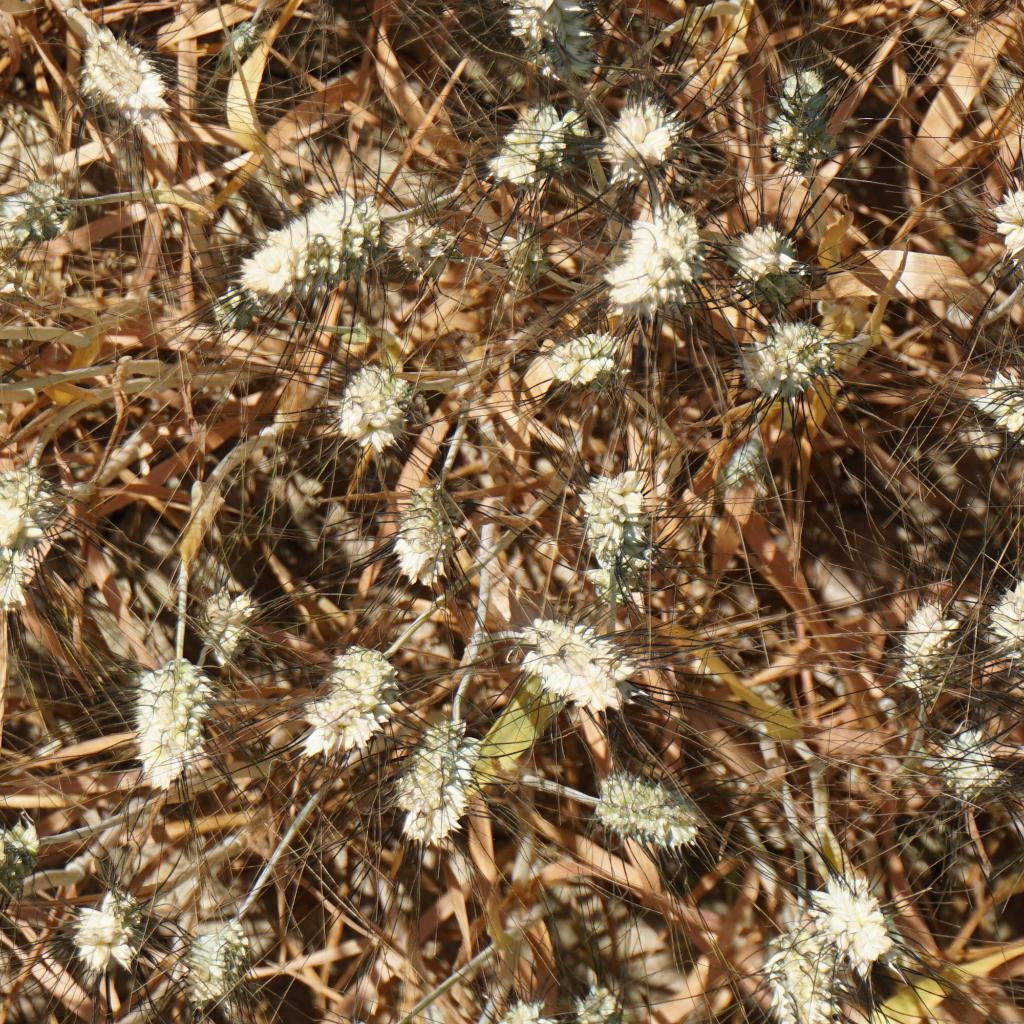0-0: (222, 179, 374, 307), (586, 195, 707, 314), (565, 464, 671, 590), (70, 29, 193, 134), (760, 47, 854, 175), (289, 635, 390, 748), (525, 600, 635, 700), (399, 698, 480, 830), (132, 649, 210, 785), (381, 470, 472, 584), (746, 316, 850, 415), (529, 316, 640, 405), (325, 344, 411, 453), (366, 204, 476, 287), (752, 917, 832, 1024), (596, 82, 673, 185), (181, 917, 262, 1014), (819, 862, 898, 961), (0, 163, 82, 251), (604, 777, 705, 848), (0, 451, 60, 570), (502, 0, 604, 69), (880, 600, 949, 695), (567, 954, 659, 1024), (929, 724, 1008, 805), (956, 358, 1024, 451), (494, 94, 570, 173), (710, 423, 786, 499), (190, 584, 265, 653), (730, 218, 797, 285), (76, 902, 141, 970), (464, 981, 566, 1024), (996, 570, 1024, 693), (988, 173, 1024, 262), (499, 226, 550, 284), (0, 253, 40, 306)
